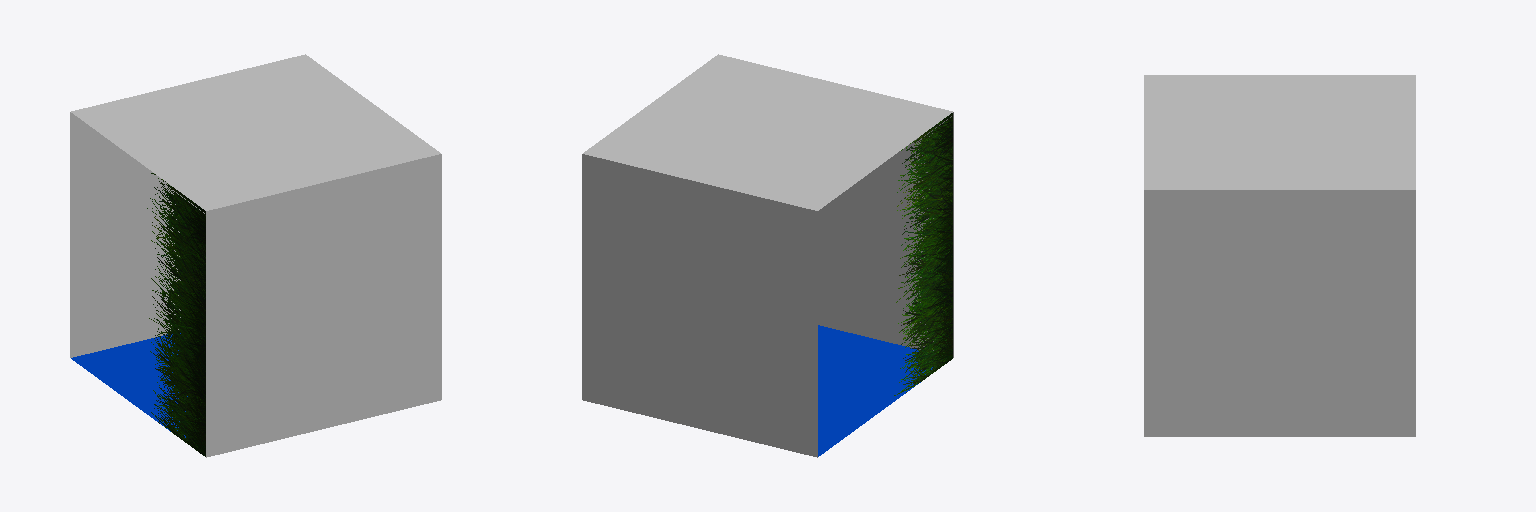
3 renders of one model, left to right at view 1: azimuth 30°, elevation 25°; view 2: azimuth 150°, elevation 25°; view 3: azimuth 270°, elevation 25°, orthographic.
Parts seen in each view (by area): view 1: Cube; view 2: Cube; view 3: Cube.
Boxes of the visible parts, box(x1,y1,x2,y2) form: Cube: box(70, 54, 441, 457); Cube: box(582, 54, 953, 457); Cube: box(1144, 75, 1415, 436).
Bounding box in the file's own units: 2 × 2 × 2.
Materials: 6 (1 with a texture image).